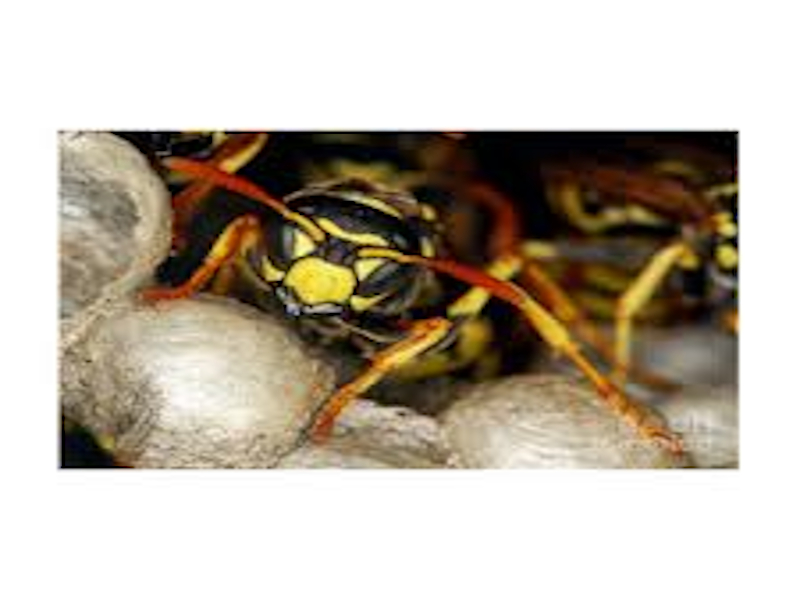chax: (135, 109, 587, 428)
